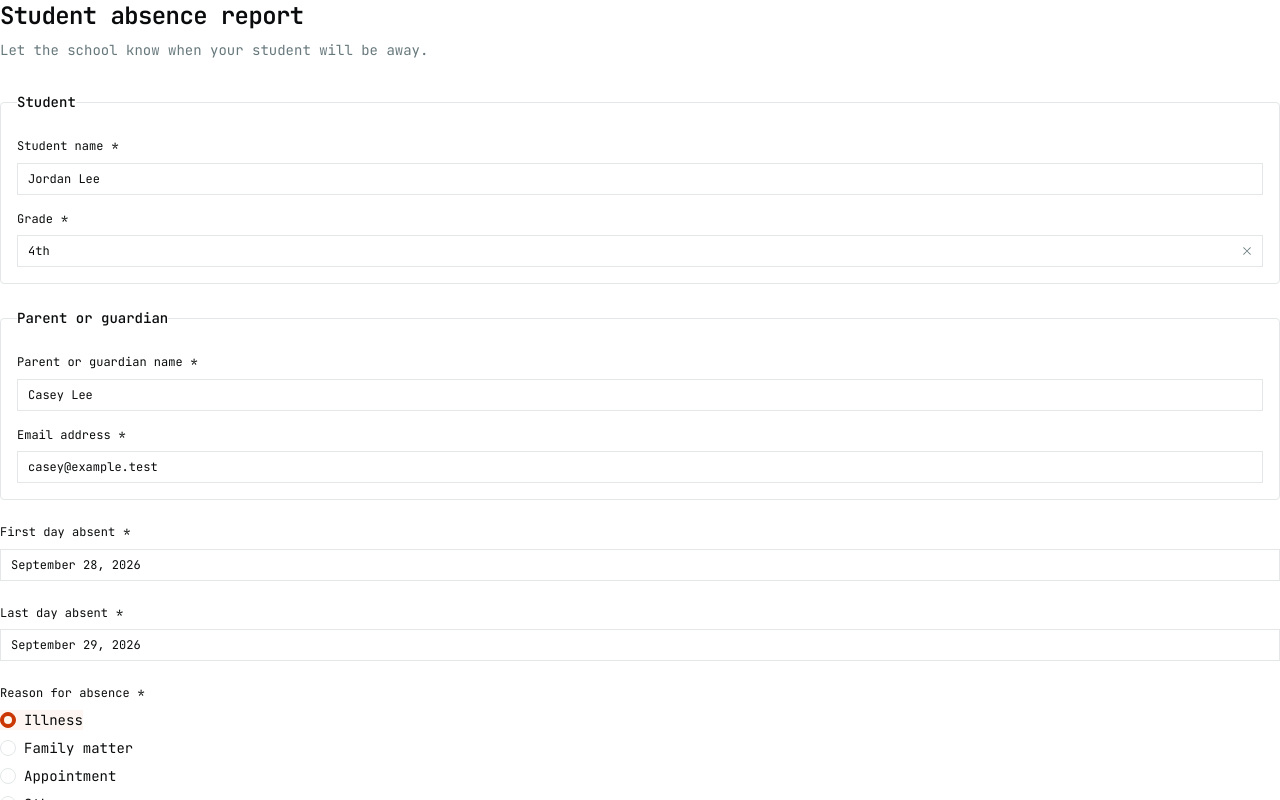
it: #DynamicForm › retains dirty answers after a network failure and allows retry
Type " Jr." into the field labelled "Student name *". click: (640, 178)
box: [17,162,1263,194]
(page scrolled)
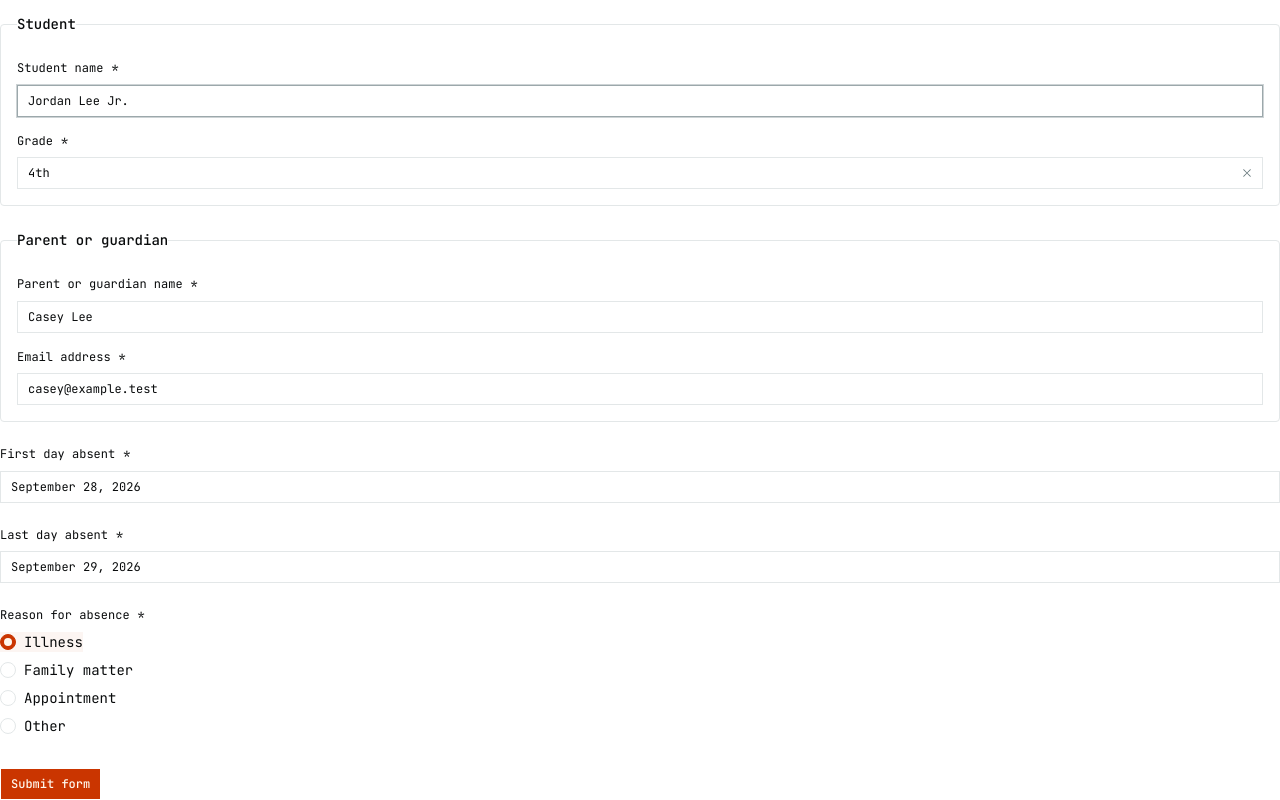
Click the button "Submit form". click: click(51, 784)
box: [0,768,101,799]
(page scrolled)
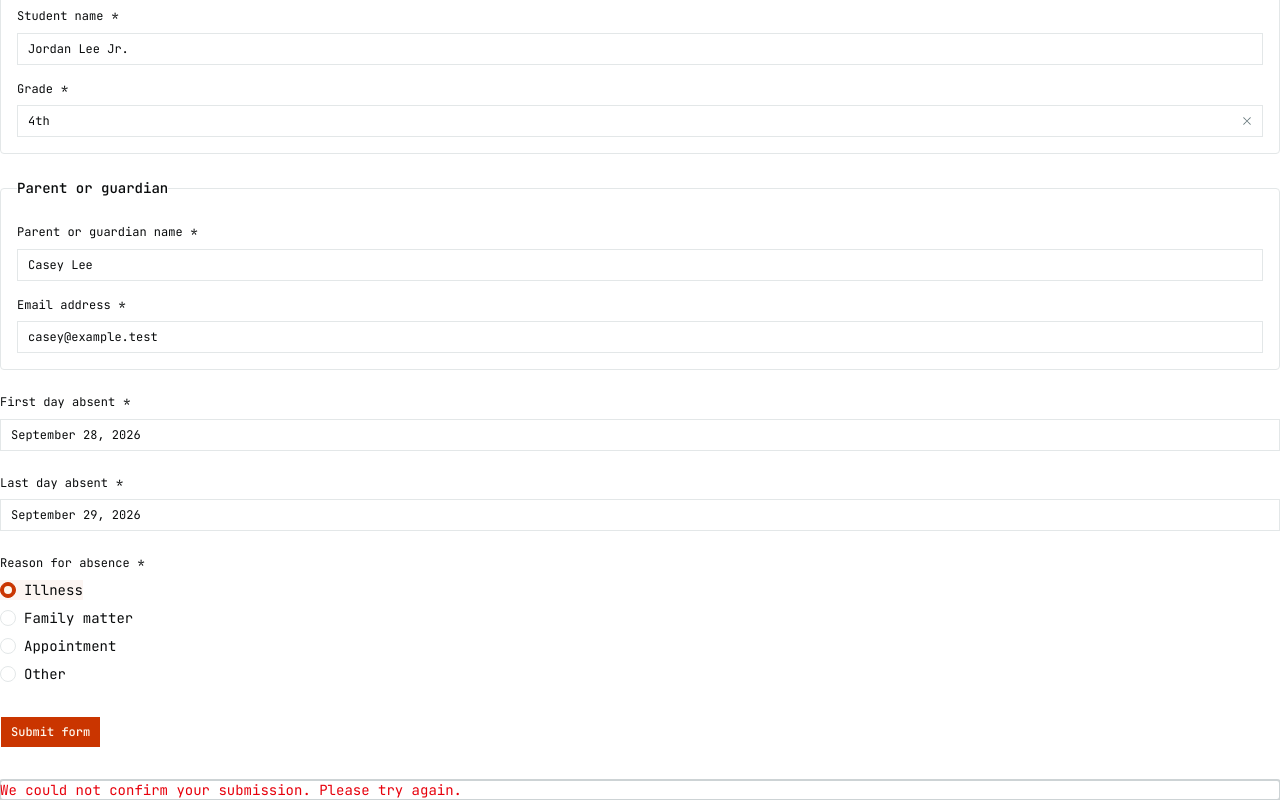
Expected: the field labelled "Student name *" holds "Jordan Lee Jr.", [17,32,1263,64]
Expected: the message shows "We could not confirm your submission.", [0,780,462,798]
Click the button "Submit form". click: click(51, 732)
box: [0,716,101,748]
(page scrolled)
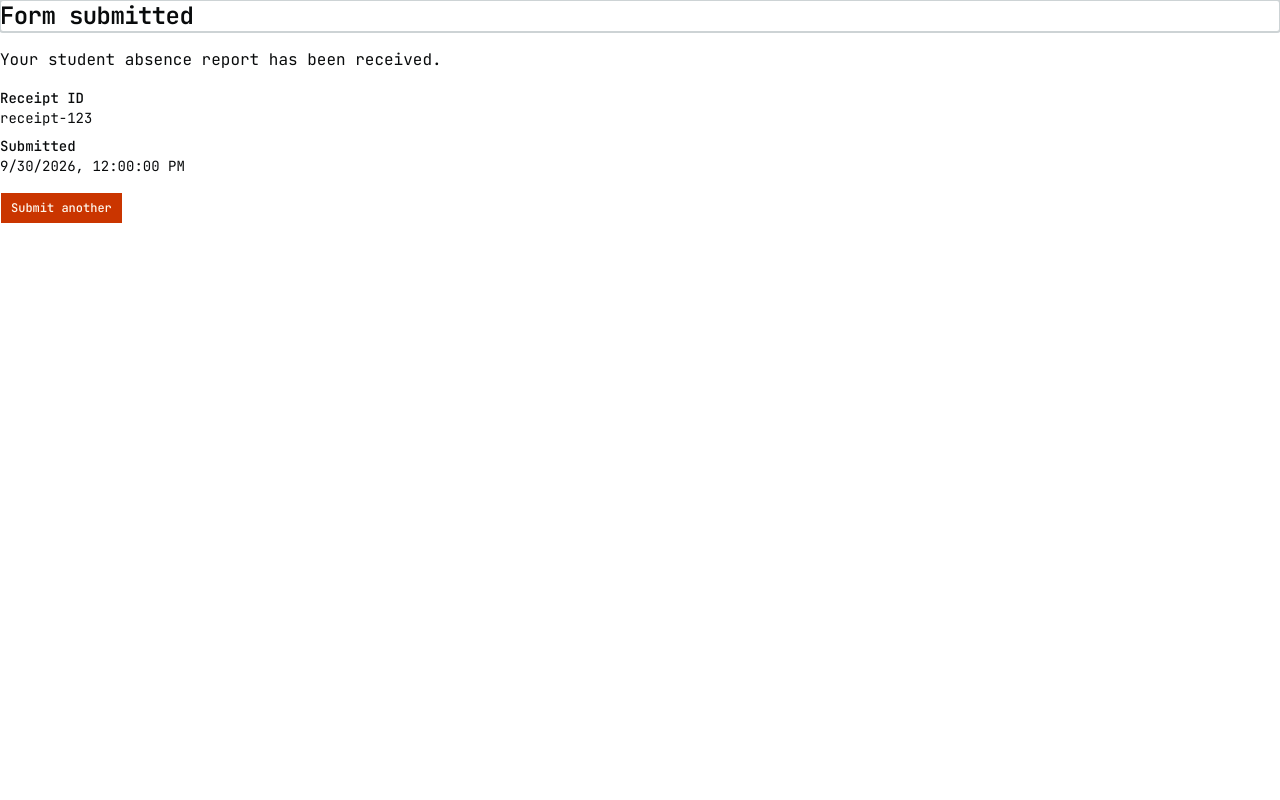
Expected: the heading "Form submitted" is shown, [0,0,193,31]
